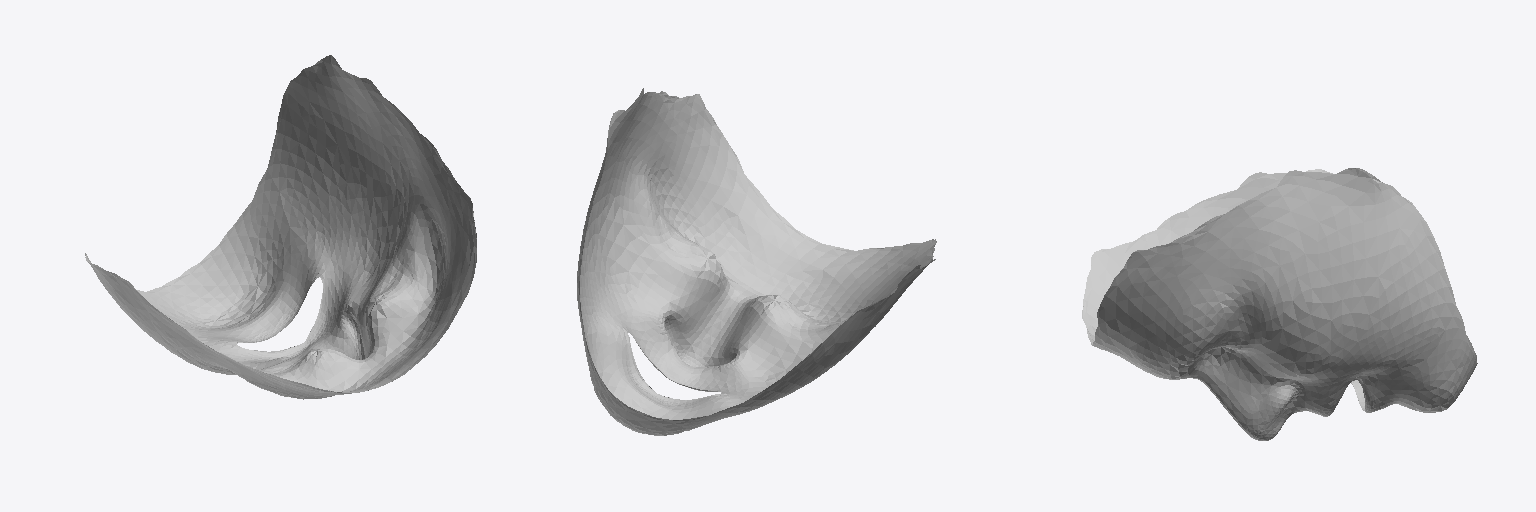
File: face_gab_sfm47.obj
The picture shows the model from 3 angles: view 1: azimuth 30°, elevation 25°; view 2: azimuth 150°, elevation 25°; view 3: azimuth 270°, elevation 25°; orthographic projection.
Bounding box in the file's own units: 165 × 154 × 192.